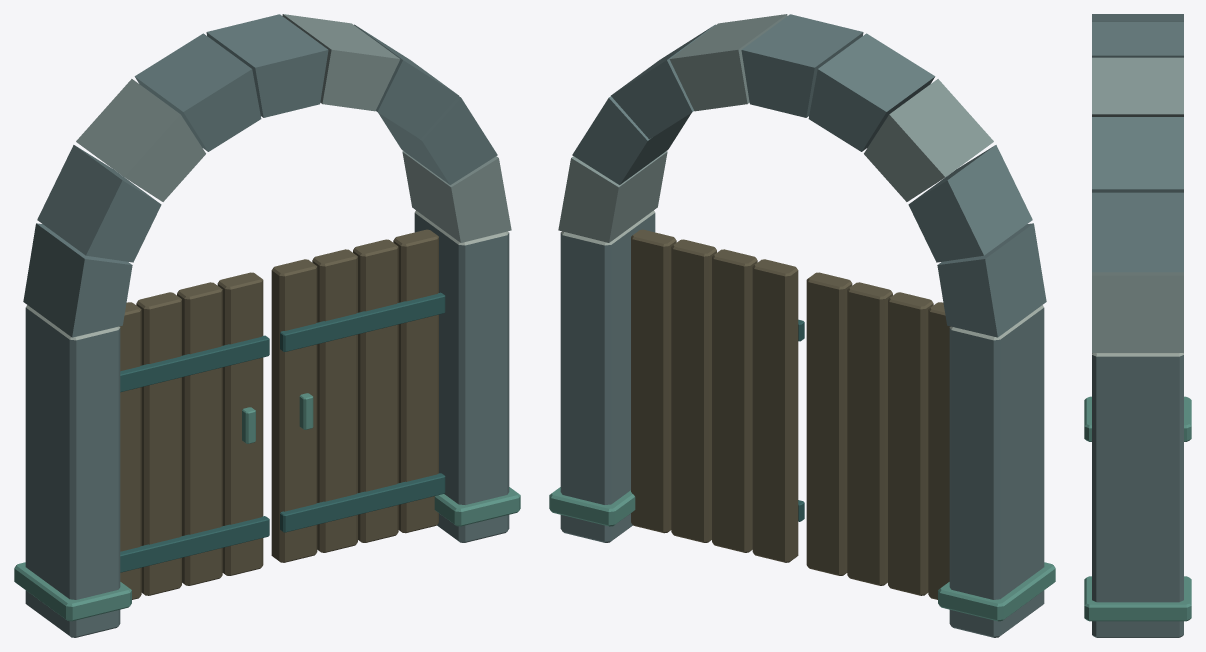
Rendered from doorway.glb.
The picture shows the model from 3 angles, left to right: view 1: azimuth 30°, elevation 25°; view 2: azimuth 150°, elevation 25°; view 3: azimuth 270°, elevation 25°; orthographic projection. The views are drawn at different scales.
Visible parts, largest first — view 1: doorway__body, doorway__leaf-right, doorway__leaf-left; view 2: doorway__body, doorway__leaf-right, doorway__leaf-left; view 3: doorway__body.
Part boxes in pixels (box(x1,y1,x2,y2)): doorway__body: box(14, 14, 520, 637); doorway__leaf-right: box(271, 229, 445, 562); doorway__leaf-left: box(119, 272, 269, 599); doorway__body: box(549, 14, 1055, 637); doorway__leaf-right: box(631, 229, 804, 562); doorway__leaf-left: box(806, 272, 950, 599); doorway__body: box(1084, 14, 1191, 637).
Size of the model in its own units: 2.69 by 2.98 by 0.58.
